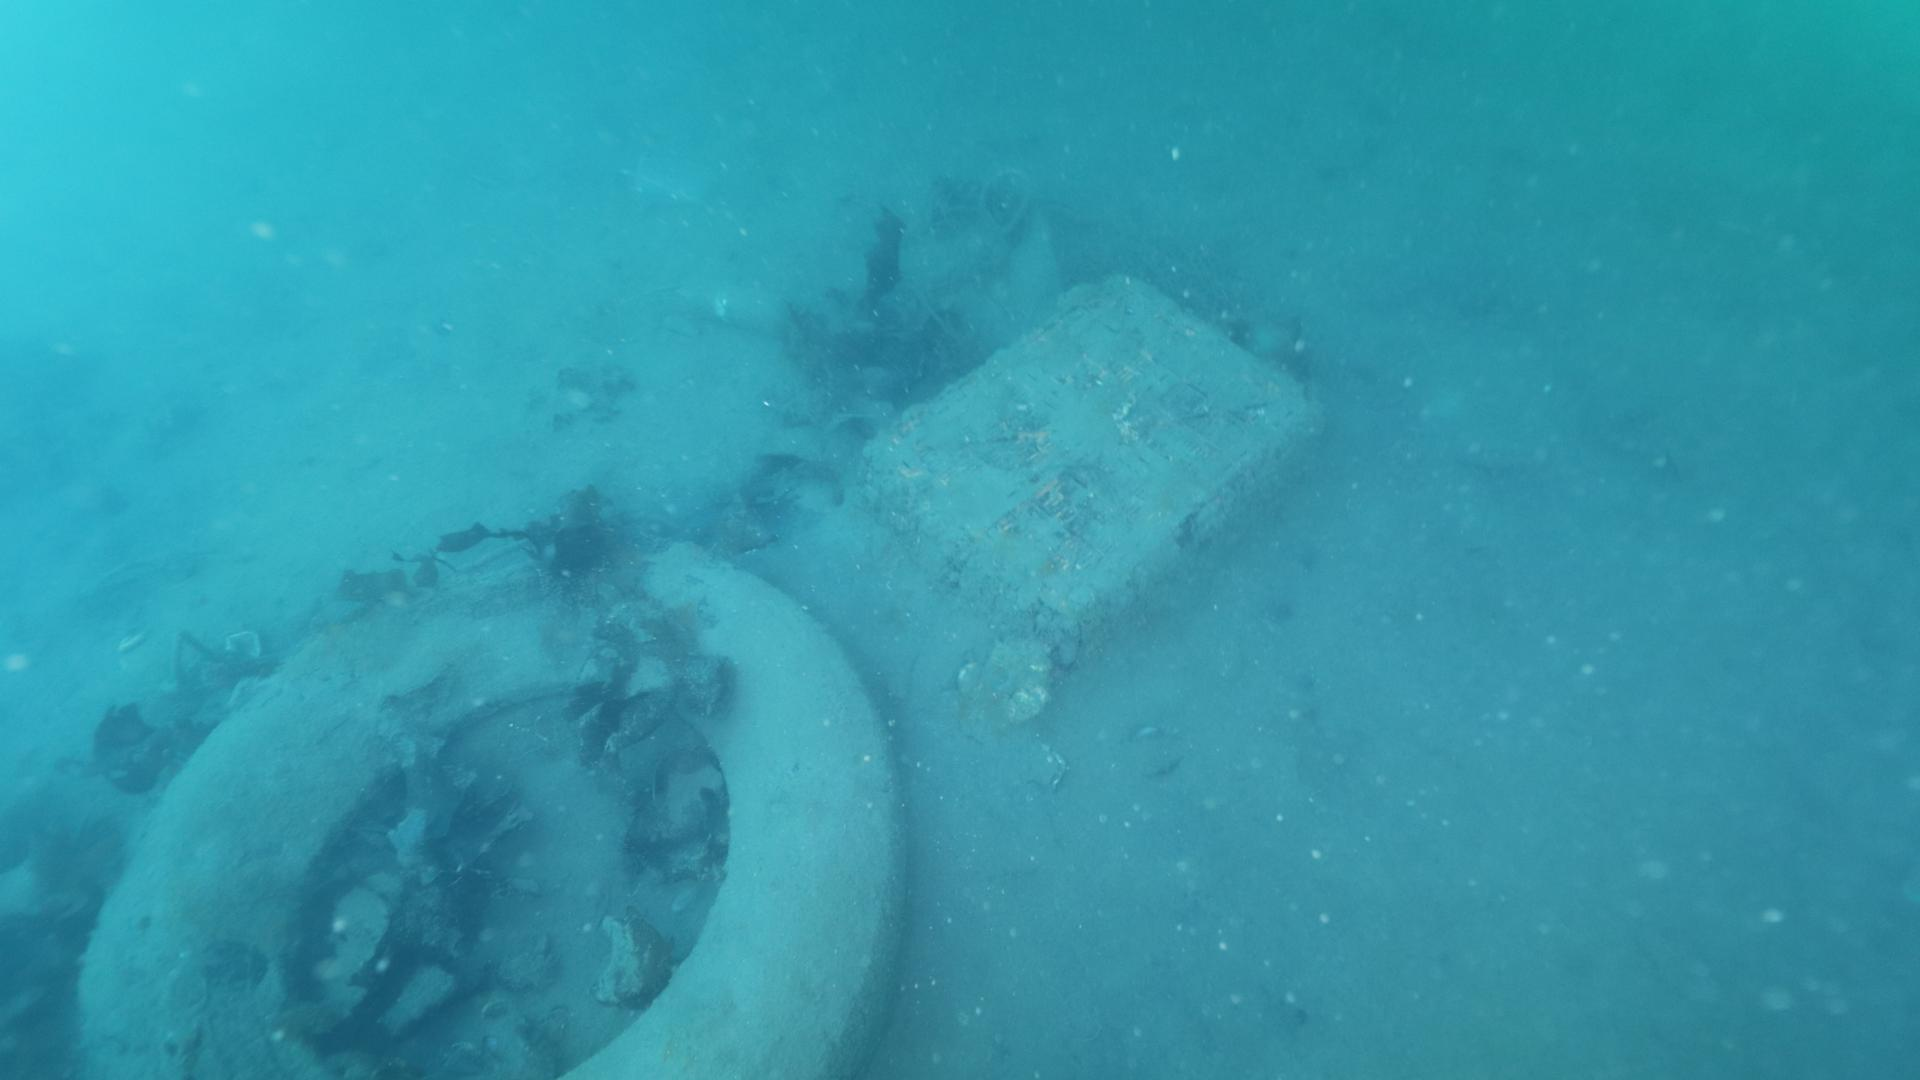tire: (69, 520, 905, 1080)
